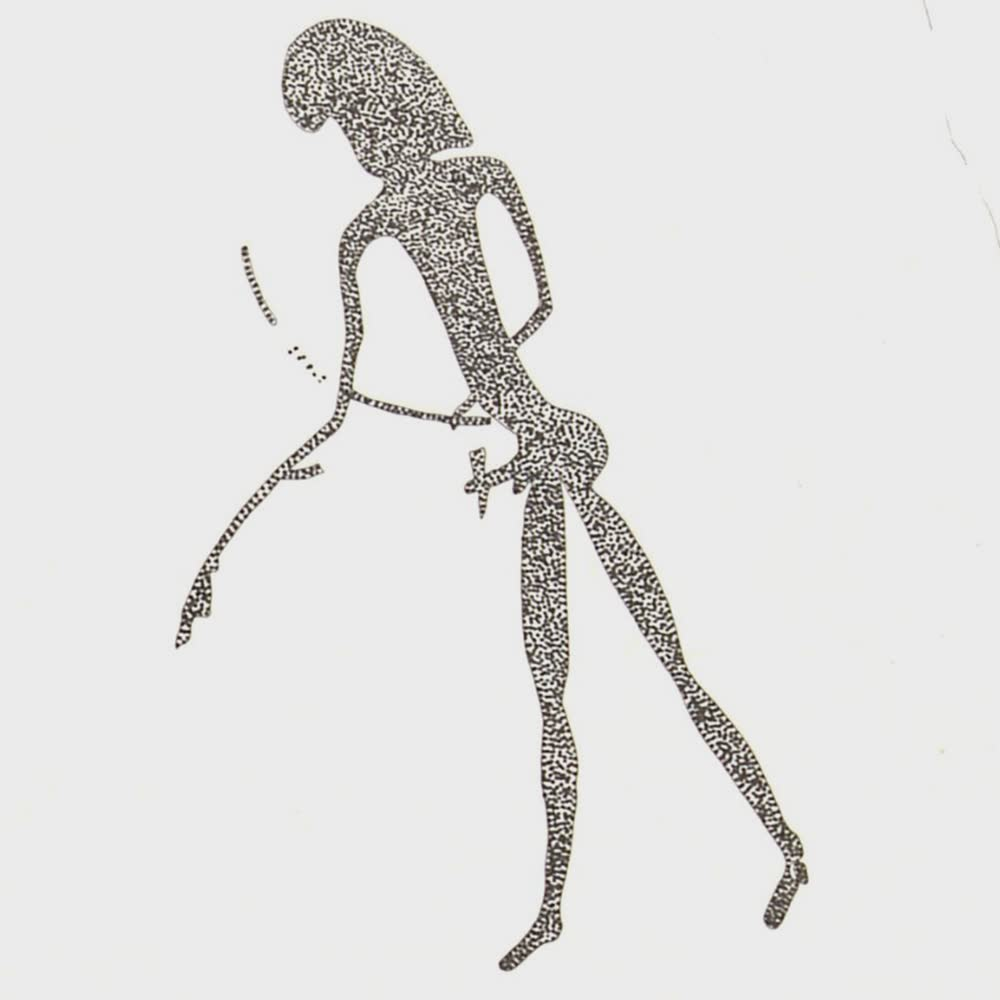man: (161, 10, 815, 981)
